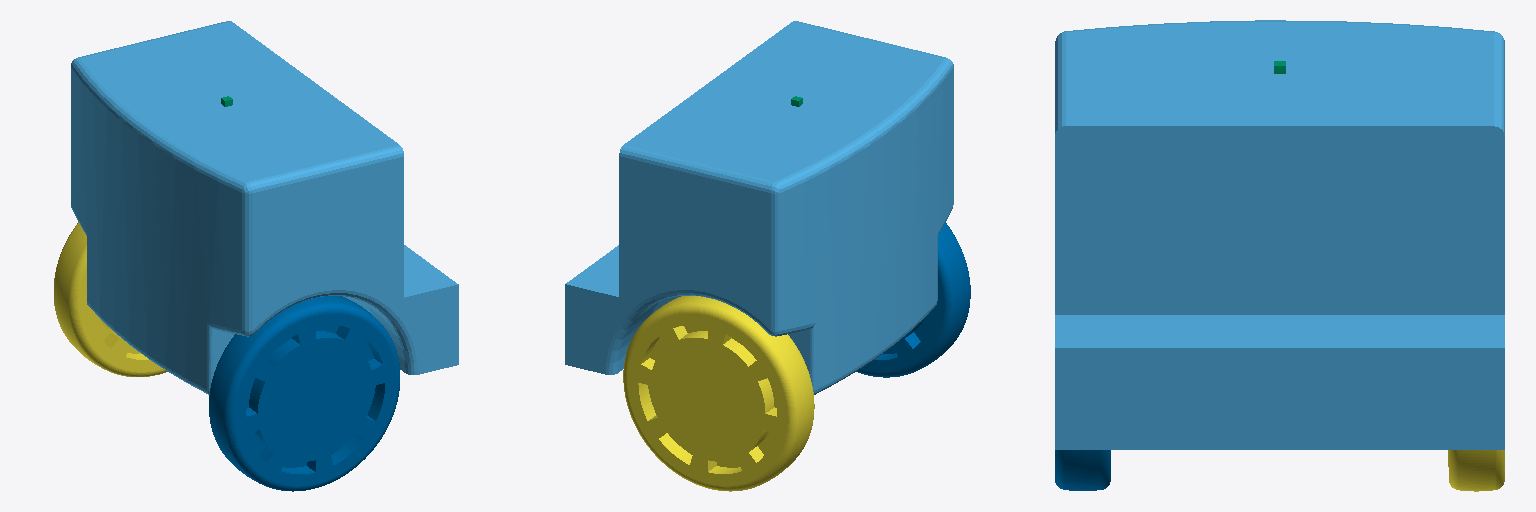
URDF robot description (balancing_robot):
<?xml version="1.0"?>

<robot name="balancing_robot">

        <link name="body">	

		</link>

        <joint name="body_world_joint" type="fixed">
		    <origin xyz="0 0 0.2575" rpy="0.0 0.0 3.14" /> 
		    <parent link="body"/>
		    <child link="robot_body"/>
		</joint> 
        <!-- HEIGHT=1.077, origin 1.022142 -->
        <!-- HEIGHT=0.9, origin 0.845-->
        <!-- HEIGHT=0.82, origin 0.765-->

        <link name="robot_body">
            <visual>
                <origin xyz="0 0 0" rpy="0 0.0 0"/> <!--xyz="0.0 0.0 0.0" rpy="0 0.0 0" -->
                <geometry>
                    <mesh filename="package://balancing_description/meshes/body.stl" scale="0.001 0.001 0.001"/>         
                </geometry>
                <material name=""/>
            </visual>

            <collision>
                <origin xyz="0 0 0" rpy="0 0.0 0.0"/>
                <geometry>
                    <mesh filename="package://balancing_description/meshes/body.stl" scale="0.001 0.001 0.001"/>
                </geometry>
            </collision>

            <inertial>
                <mass value="20" /> <!--3.037-->
                <origin xyz="0 0 0" rpy="0 0.0 0"/>
                <inertia ixx="0.360949559" ixy="0.0"  ixz="-0.028784386"  iyy="0.254082547"  iyz="0.0"  izz="0.342506149" />
            </inertial>
        </link>

        <joint name="imu_joint" type="fixed">
            <origin xyz="0 0 0.145"/>
            <parent link="robot_body"/>
            <child link="imu_link"/>
        </joint>

        <link name="imu_link">
            <visual>
            <origin xyz="0.0 0 0.0" rpy="0 0 0"/>
            <geometry>
                <box size="0.01 0.01 0.01"/>
            </geometry>
            </visual>
        </link>

<!-- ######################################################################################### -->

        <joint name="left_wheel_joint" type="continuous">
            <!-- <origin xyz="-0.000001 0.08 -0.0015" rpy="0 0 1.57"/> -->
            <origin xyz="0 -0.175 -0.1425" rpy="0 0 3.14"/>
            <axis xyz="0 1 0" />
            <parent link="robot_body"/>
            <child link="left_wheel"/>            
            <joint_properties damping="0.0" friction="0.0"/>

        </joint>

<!-- ######################################################################################### -->

        <link name="left_wheel">
            <visual>
                <origin xyz="0.0 0.0 0.0" rpy="0 0.0 0"/> 
                <geometry>
                    <mesh filename="package://balancing_description/meshes/wheel.stl" scale="0.001 0.001 0.001"/>         
                </geometry>
                <material name=""/>
            </visual>
            <collision>
                <origin xyz="0 0 0" rpy="1.5708 0.0 0.0"/>
                <geometry>
                    <!-- <mesh filename="package://balancing_description/meshes/wheel.stl" scale="0.001 0.001 0.001"/>         -->
                <cylinder length="0.05" radius="0.115"/>
                </geometry>
            </collision>
            <inertial>
                <mass value="5" /><!-- 1.095 -->
                <origin xyz="0 0 0" />
                <inertia ixx="0.017005192" ixy="0" ixz="0" iyy="0.032049319" iyz="0" izz="0.017005189"/>
            </inertial>
        </link>

<!-- ######################################################################################### -->

        <joint name="right_wheel_joint" type="continuous">
            <!-- <origin xyz="-0.000001 0.08 -0.0015" rpy="0 0 1.57"/> -->
            <origin xyz="0 0.175 -0.1425" rpy="0 0 3.14"/>
            <axis xyz="0 1 0" />
            <parent link="robot_body"/>
            <child link="right_wheel"/>            
            <joint_properties damping="0.0" friction="0.0"/>

        </joint>

<!-- ######################################################################################### -->

        <link name="right_wheel">
            <visual>
                <origin xyz="0.0 0.0 0.0" rpy="0 0.0 0"/> 
                <geometry>
                    <mesh filename="package://balancing_description/meshes/wheel.stl" scale="0.001 0.001 0.001"/>         
                </geometry>
                <material name=""/>
            </visual>
            <collision>
                <origin xyz="0 0 0" rpy="1.5708 0.0 0.0"/>
                <geometry>
                    <!-- <mesh filename="package://balancing_description/meshes/wheel.stl" scale="0.001 0.001 0.001"/>   -->
                    <cylinder length="0.05" radius="0.115"/>      
                </geometry>
            </collision>
            <inertial>
                <mass value="5" /><!-- 1.095 -->
                <origin xyz="0 0 0" />
                <inertia ixx="0.017005192" ixy="0" ixz="0" iyy="0.032049319" iyz="0" izz="0.017005189"/>
            </inertial>
        </link>

<!-- ######################################################################################### -->

        <gazebo reference="body">
            <mu1>1.0</mu1>
            <mu2>1.0</mu2> 
            <kp>1e+13</kp>
            <kd>1.0</kd>
            <maxVel>0.001</maxVel>
            <minDepth>0.00000000001</minDepth>
            <gravity>1</gravity>
            <material>Gazebo/Grey</material>
            <!-- <selfCollide>true</selfCollide> -->
        </gazebo>

        <gazebo reference="robot_body">
            <mu1>1.0</mu1>
            <mu2>1.0</mu2> 
            <kp>1e+13</kp>
            <kd>1.0</kd>
            <maxVel>0.001</maxVel>
            <minDepth>0.00000000001</minDepth>
            <gravity>1</gravity>
            <material>Gazebo/Grey</material>
            <!-- <selfCollide>true</selfCollide> -->
        </gazebo>

        <gazebo reference="left_wheel">
            <collision name="left_wheel_collision">
                <surface>
                    <friction>
                        <torsional>
                            <coefficient>1</coefficient>
                            <use_patch_radius>true</use_patch_radius>
                            <patch_radius>0.025</patch_radius>
                        </torsional>
                    </friction>
                </surface>
            </collision>
            <mu1>1.0</mu1>
            <mu2>1.0</mu2> 
            <kp>1e+13</kp>
            <kd>1.0</kd>
            <maxVel>0.001</maxVel>
            <minDepth>0.00000000001</minDepth>
            <gravity>1</gravity>
            <material>Gazebo/White</material>
            <selfCollide>true</selfCollide>
        </gazebo>

        <gazebo reference="right_wheel">
            <collision name="right_wheel_collision">
                <surface>
                    <friction>
                        <torsional>
                            <coefficient>1</coefficient>
                            <use_patch_radius>true</use_patch_radius>
                            <patch_radius>0.02</patch_radius>
                        </torsional>
                    </friction>
                </surface>
            </collision>
            <mu1>1.0</mu1>
            <mu2>1.0</mu2> 
            <kp>1e+13</kp>
            <kd>1.0</kd>
            <maxVel>0.001</maxVel>
            <minDepth>0.00000000001</minDepth>
            <gravity>1</gravity>
            <material>Gazebo/White</material>
            <selfCollide>true</selfCollide>
        </gazebo>

        <gazebo reference="imu_link">
                <gravity>true</gravity>
                <sensor name="imu_sensor" type="imu">
                    <always_on>true</always_on>
                    <update_rate>2000</update_rate>
                    <visualize>true</visualize>
                    <topic>__default_topic__</topic>
                    <plugin filename="libgazebo_ros_imu_sensor.so" name="imu_plugin">
                        <topicName>imu</topicName>
                        <bodyName>imu_link</bodyName>
                        <updateRateHZ>2000.0</updateRateHZ>
                        <gaussianNoise>0.0</gaussianNoise>
                        <xyzOffset>0 0 0</xyzOffset>
                        <rpyOffset>0 0 0</rpyOffset>
                        <frameName>imu_link</frameName>
                        <initialOrientationAsReference>false</initialOrientationAsReference>
                    </plugin>
                    <pose>0 0 0 0 0 0</pose>
                </sensor>
        </gazebo>

<!-- ######################################################################################### -->

        <gazebo>
            <plugin name="gazebo_ros_control" filename="libgazebo_ros_control.so">
                <controlPeriod>0.001</controlPeriod>
                <robotNamespace>/balancing_robot</robotNamespace>
                <!-- <jointName> Right_gimbal_joint, Left_gimbal_joint, Left_flywheel_joint, Right_flywheel_joint, hip_roll_joint, hip_pitch_joint, knee_joint, ankle_pitch_joint, ankle_roll_joint, wheel_joint </jointName> -->
                <robotSimType>gazebo_ros_control/DefaultRobotHWSim</robotSimType>
                <legacyModeNS>true</legacyModeNS>
            </plugin>
        </gazebo>

        <transmission name="left_wheel_trans">
            <type>transmission_interface/SimpleTransmission</type>
            <joint name="left_wheel_joint" >
                <hardwareInterface>hardware_interface/EffortJointInterface</hardwareInterface>
            </joint>
            <actuator name="left_wheel_motor">
                <hardwareInterface>hardware_interface/EffortJointInterface</hardwareInterface>
                <mechanicalReduction>1</mechanicalReduction>
            </actuator>
        </transmission>

        <transmission name="right_wheel_trans">
            <type>transmission_interface/SimpleTransmission</type>
            <joint name="right_wheel_joint" >
                <hardwareInterface>hardware_interface/EffortJointInterface</hardwareInterface>
            </joint>
            <actuator name="right_wheel_motor">
                <hardwareInterface>hardware_interface/EffortJointInterface</hardwareInterface>
                <mechanicalReduction>1</mechanicalReduction>
            </actuator>
        </transmission>

<!-- EffortJointInterface
PositionJointInterface
VelocityJointInterface -->

</robot>

--- What the picture shows (computed from the rendered views, not written in the file) ---
Views: 3 orthographic renders of the robot side by side, from view 1: azimuth 30°, elevation 25°; view 2: azimuth 150°, elevation 25°; view 3: azimuth 270°, elevation 25°.
Robot: balancing_robot — 5 links, 4 joints (2 continuous, 2 fixed); root link body; default pose: every joint at zero.
Visible links, largest first — view 1: robot_body, right_wheel, left_wheel; view 2: robot_body, left_wheel, right_wheel; view 3: robot_body, left_wheel, right_wheel.
Link boxes in pixels (box(x1,y1,x2,y2)): robot_body: box(71, 21, 458, 394); right_wheel: box(209, 296, 399, 491); left_wheel: box(54, 222, 167, 376); robot_body: box(565, 21, 953, 394); left_wheel: box(623, 296, 814, 491); right_wheel: box(856, 222, 970, 377); robot_body: box(1055, 20, 1504, 449); left_wheel: box(1448, 450, 1504, 491); right_wheel: box(1055, 450, 1110, 490).
Size in the robot's own frame: 0.3006 by 0.4007 by 0.4075 metres.
3 mesh visuals loaded from 2 distinct referenced files (2 binary STL).